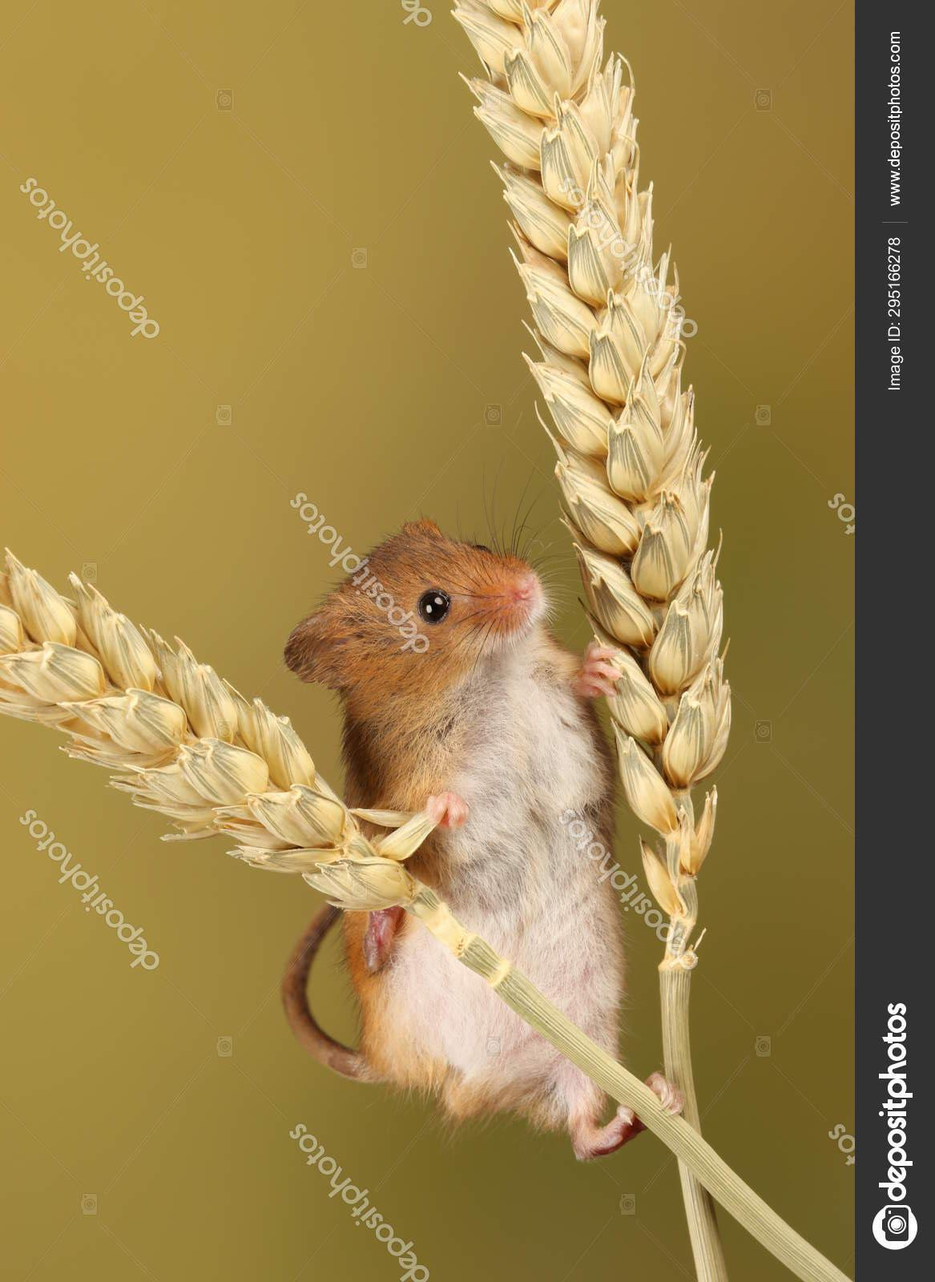rat: (282, 516, 684, 1160)
